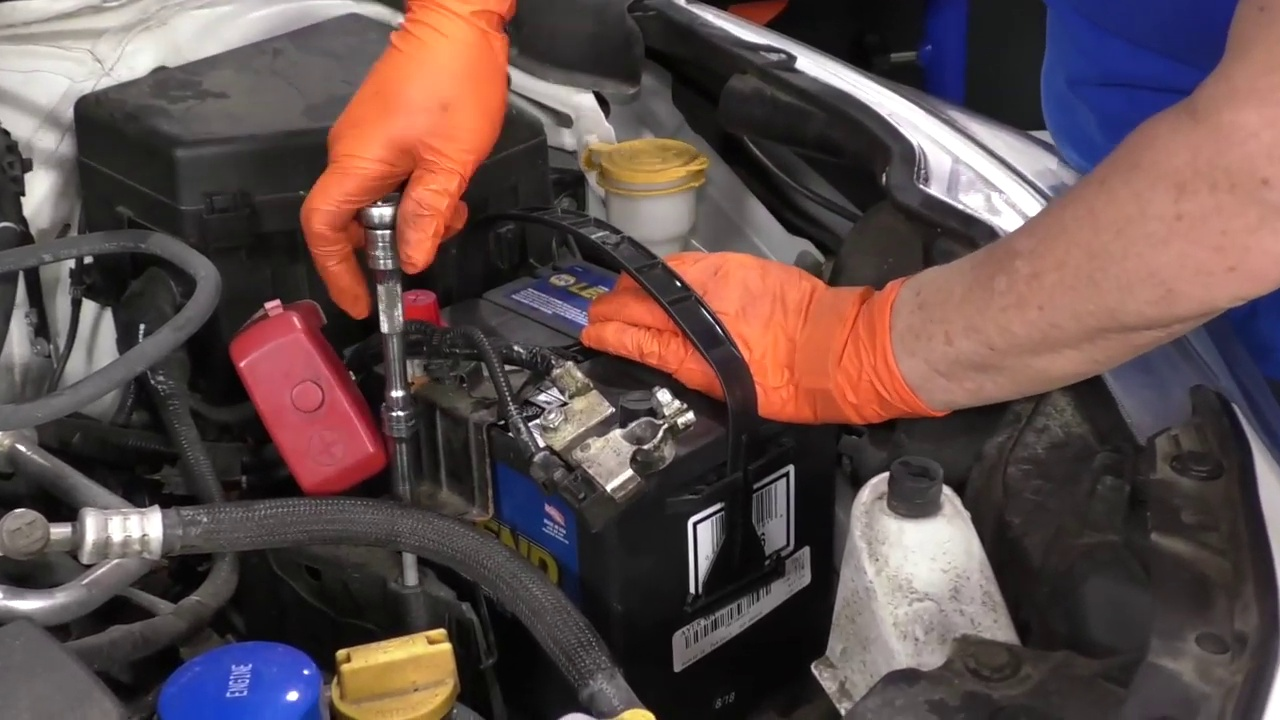battery: (370, 249, 822, 499)
